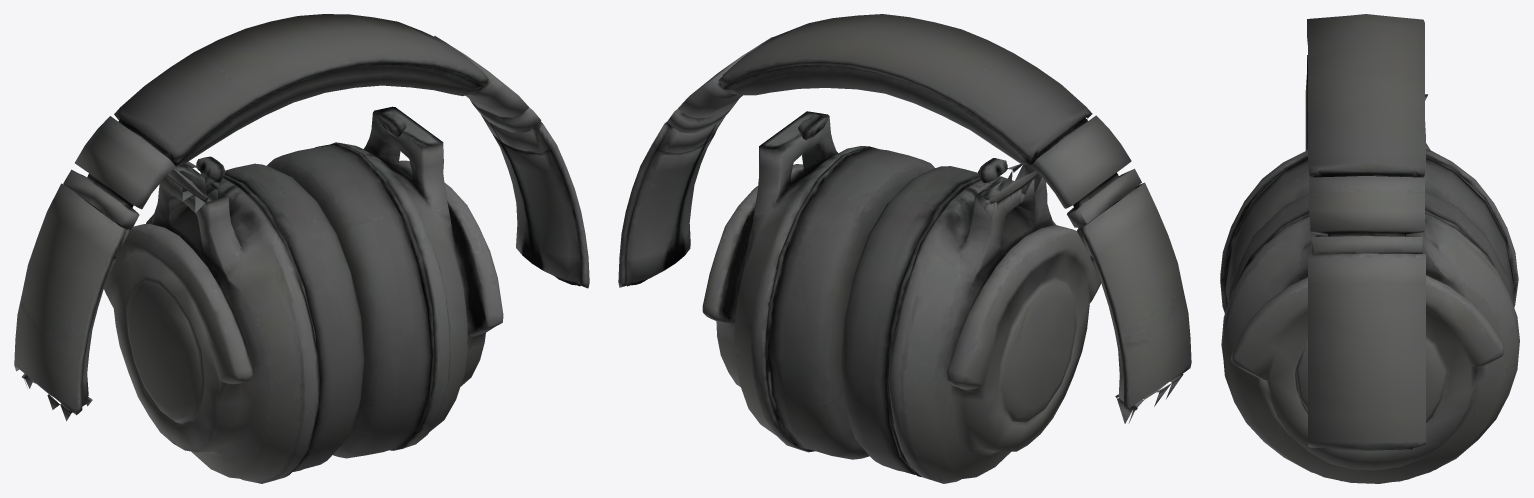
File: headphones_worn.glb
3 views of the same model, side by side, from view 1: azimuth 30°, elevation 25°; view 2: azimuth 150°, elevation 25°; view 3: azimuth 270°, elevation 25° (orthographic). The views are drawn at different scales.
Parts seen in each view (by area): view 1: hp_cupL, hp_band, hp_cupR; view 2: hp_cupL, hp_band, hp_cupR; view 3: hp_band, hp_cupR, hp_cupL.
Part boxes in pixels (x1,y1,x2,y2): hp_cupL: (104, 156, 364, 483); hp_band: (14, 14, 589, 421); hp_cupR: (267, 106, 503, 458); hp_cupL: (840, 158, 1101, 483); hp_band: (618, 14, 1191, 423); hp_cupR: (702, 111, 934, 459); hp_band: (1305, 14, 1425, 450); hp_cupR: (1221, 191, 1519, 483); hp_cupL: (1220, 94, 1518, 313).
Size of the model in its own units: 0.1829 by 0.1414 by 0.0943.
1 material, 1 textured.
